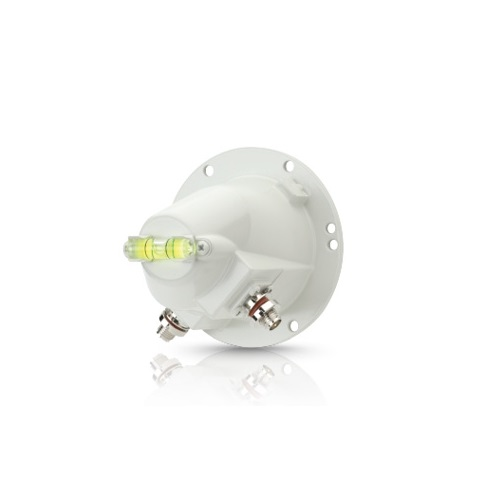ba: (114, 110, 394, 379)
